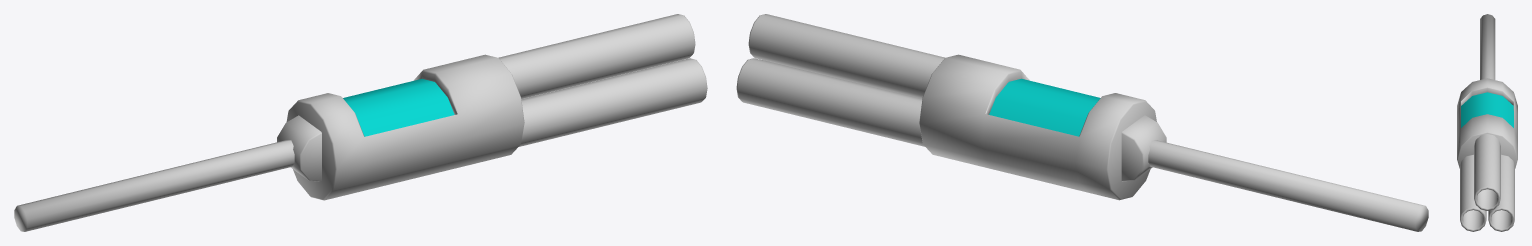
The model's file is Ranged_Arm_Left.fbx.
3 views of the same model, side by side, from view 1: azimuth 30°, elevation 25°; view 2: azimuth 150°, elevation 25°; view 3: azimuth 270°, elevation 25° (orthographic). The views are drawn at different scales.
Parts seen in each view (by area): view 1: mesh_ranged_robot_Arm_Left; view 2: mesh_ranged_robot_Arm_Left; view 3: mesh_ranged_robot_Arm_Left.
Part boxes in pixels (box(x1,y1,x2,y2)): mesh_ranged_robot_Arm_Left: box(14, 14, 707, 231); mesh_ranged_robot_Arm_Left: box(736, 14, 1428, 231); mesh_ranged_robot_Arm_Left: box(1457, 14, 1517, 231).
Size of the model in its own units: 122 by 16.54 by 16.54.
